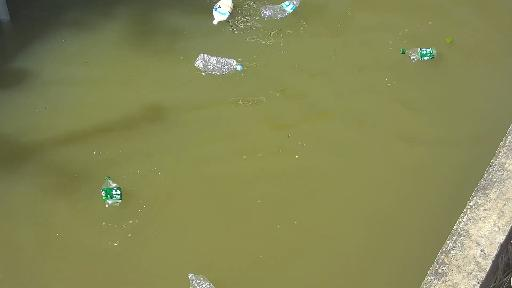leaf: (436, 30, 460, 51)
plastic: (97, 152, 137, 218), (188, 40, 246, 77), (251, 0, 311, 32), (198, 0, 247, 37), (390, 41, 447, 69), (174, 267, 217, 288)
